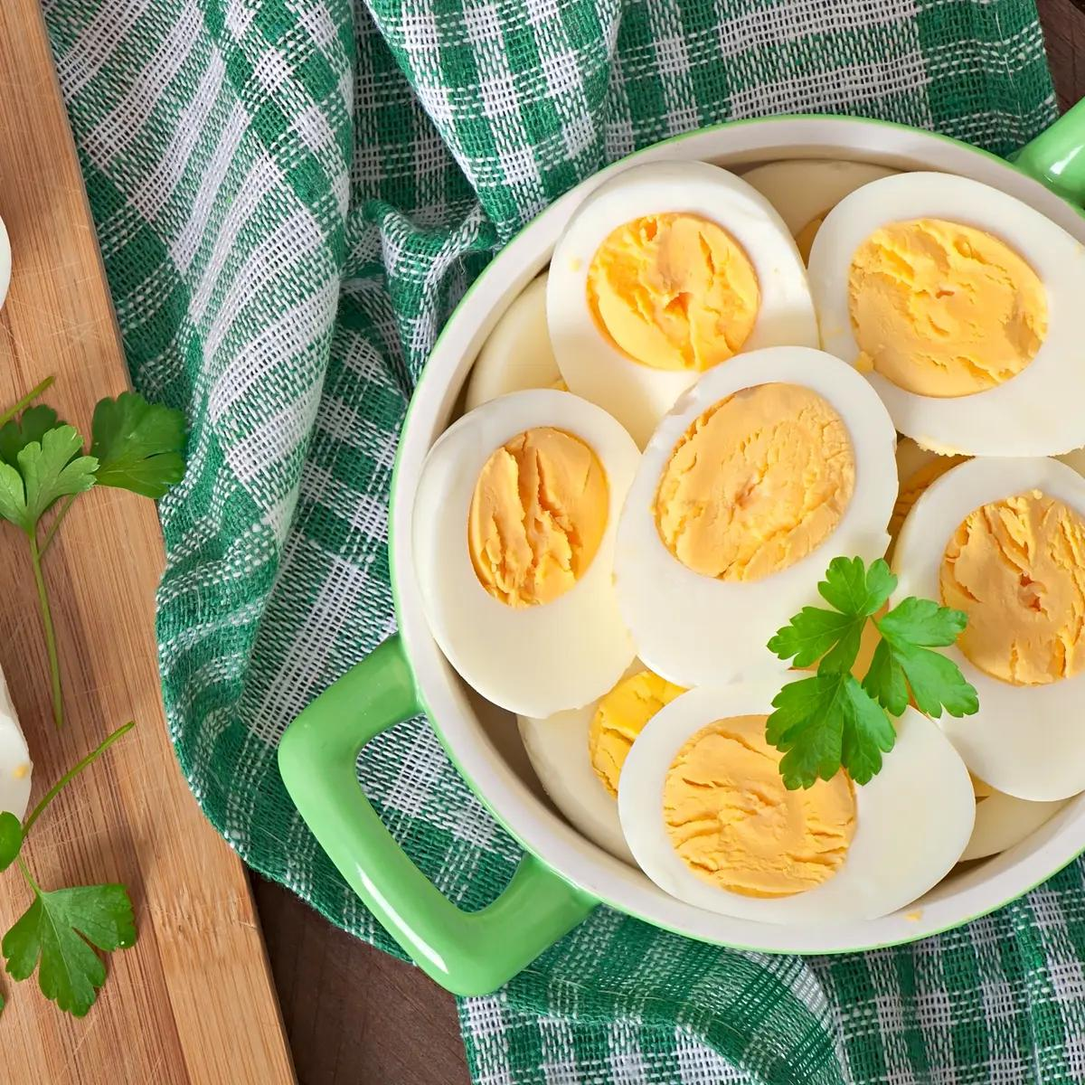telur: (442, 440, 616, 663), (847, 232, 1068, 388), (698, 373, 871, 554), (563, 210, 781, 353), (644, 787, 919, 894), (982, 478, 1085, 751)
